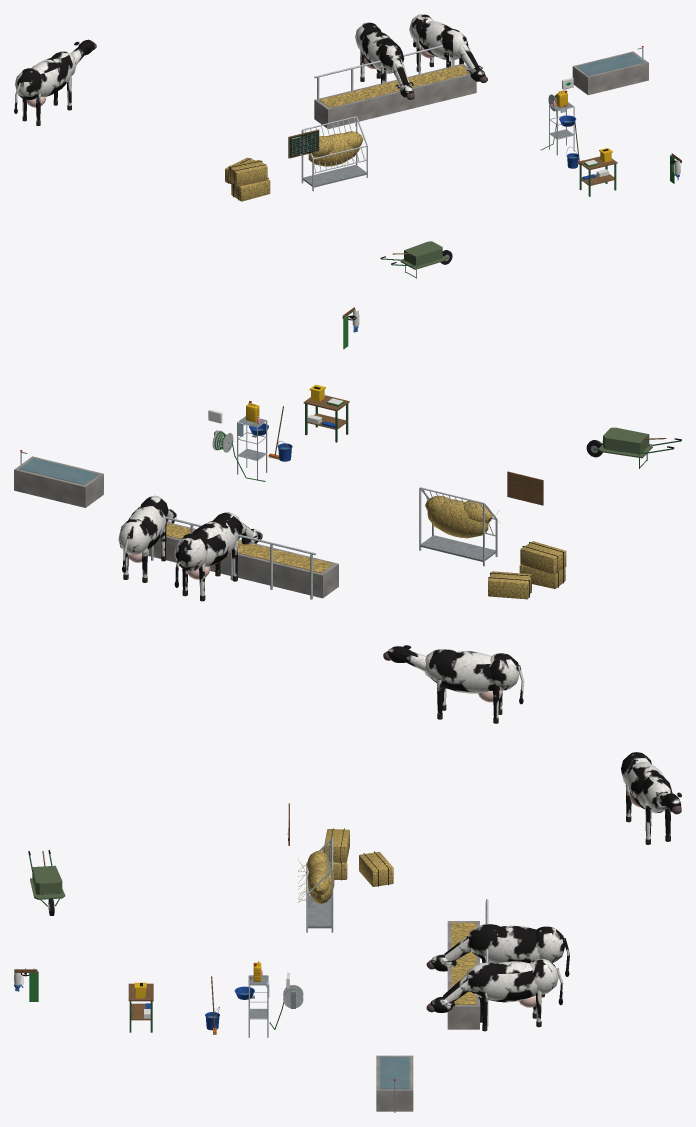
The model's file is props-eJAog1IB.glb.
3 renders of one model, top to bottom at view 1: azimuth 30°, elevation 25°; view 2: azimuth 150°, elevation 25°; view 3: azimuth 270°, elevation 25°, orthographic. The views are drawn at different scales.
Visible parts, largest first — view 1: PROP_feed_bunk, PROP_cow_3, PROP_hay_rack, PROP_cow_2, PROP_water_trough, PROP_cow_1, PROP_hay_bales, PROP_wheelbarrow, PROP_table, PROP_wash_stand, PROP_heat_board; view 2: PROP_feed_bunk, PROP_cow_3, PROP_hay_rack, PROP_cow_1, PROP_water_trough, PROP_hay_bales, PROP_cow_2, PROP_wheelbarrow, PROP_table, PROP_wash_stand, PROP_heat_board; view 3: PROP_cow_2, PROP_cow_1, PROP_cow_3, PROP_feed_bunk, PROP_hay_rack, PROP_water_trough, PROP_hay_bales, PROP_wheelbarrow, PROP_table, PROP_wash_stand, PROP_ppe_hooks.
Boxes of the visible parts, <box> form: PROP_feed_bunk: <box>314,45,476,128</box>; PROP_cow_3: <box>14,39,96,125</box>; PROP_hay_rack: <box>301,116,367,191</box>; PROP_cow_2: <box>409,14,487,82</box>; PROP_water_trough: <box>572,46,648,95</box>; PROP_cow_1: <box>355,22,414,99</box>; PROP_hay_bales: <box>225,157,270,201</box>; PROP_wheelbarrow: <box>380,241,452,278</box>; PROP_table: <box>578,148,617,196</box>; PROP_wash_stand: <box>549,90,576,155</box>; PROP_heat_board: <box>288,129,319,158</box>; PROP_feed_bunk: <box>148,516,338,599</box>; PROP_cow_3: <box>383,645,524,723</box>; PROP_hay_rack: <box>419,487,499,566</box>; PROP_cow_1: <box>174,512,262,601</box>; PROP_water_trough: <box>14,450,103,507</box>; PROP_hay_bales: <box>488,541,566,599</box>; PROP_cow_2: <box>118,495,176,582</box>; PROP_wheelbarrow: <box>586,427,681,468</box>; PROP_table: <box>303,384,349,442</box>; PROP_wash_stand: <box>237,401,268,479</box>; PROP_heat_board: <box>507,471,543,505</box>; PROP_cow_2: <box>426,959,563,1031</box>; PROP_cow_1: <box>426,924,569,997</box>; PROP_cow_3: <box>621,752,681,844</box>; PROP_feed_bunk: <box>447,899,488,1029</box>; PROP_hay_rack: <box>298,837,334,932</box>; PROP_water_trough: <box>376,1055,413,1112</box>; PROP_hay_bales: <box>322,828,393,886</box>; PROP_wheelbarrow: <box>28,850,65,915</box>; PROP_table: <box>128,982,153,1032</box>; PROP_wash_stand: <box>234,961,268,1037</box>; PROP_ppe_hooks: <box>14,968,38,1001</box>.
Bounding box in the file's own units: 15.63 × 1.9 × 14.48.
34 materials, 8 textured.
